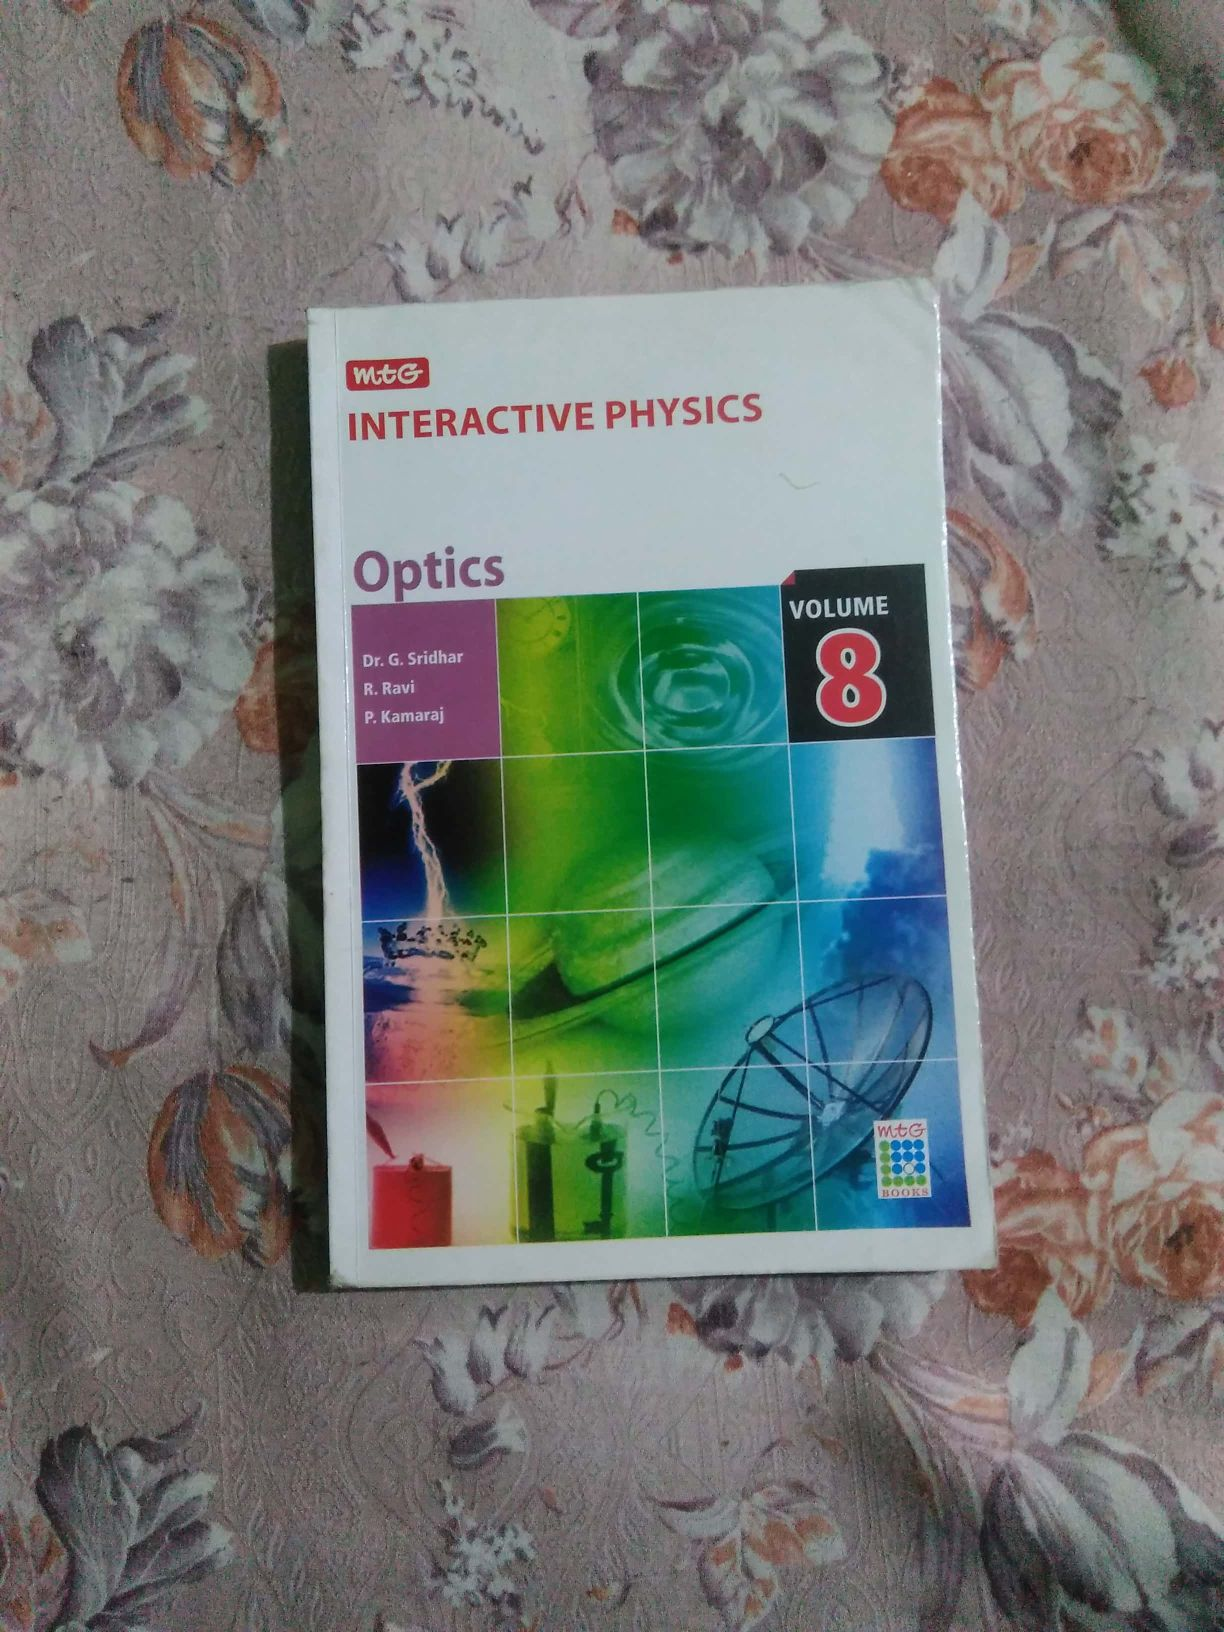optics: (253, 269, 1058, 1293)
